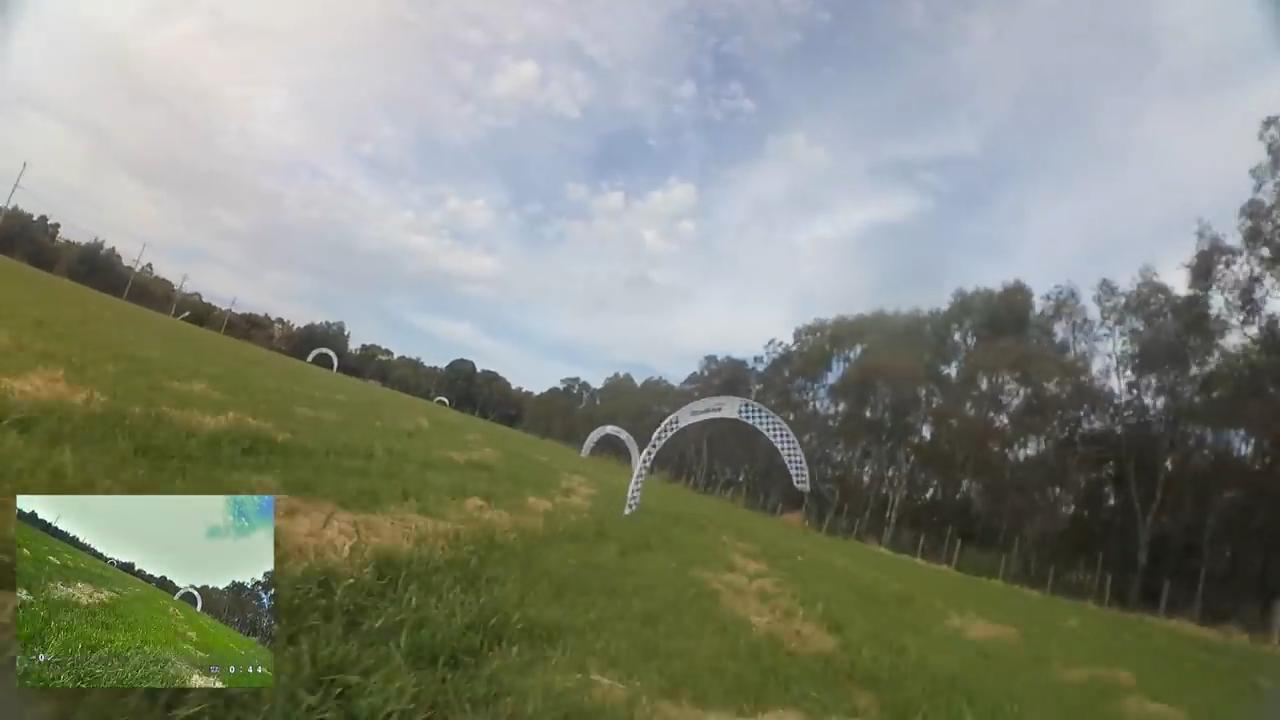gate: (622, 396, 812, 519), (581, 422, 641, 483), (308, 345, 340, 373)
